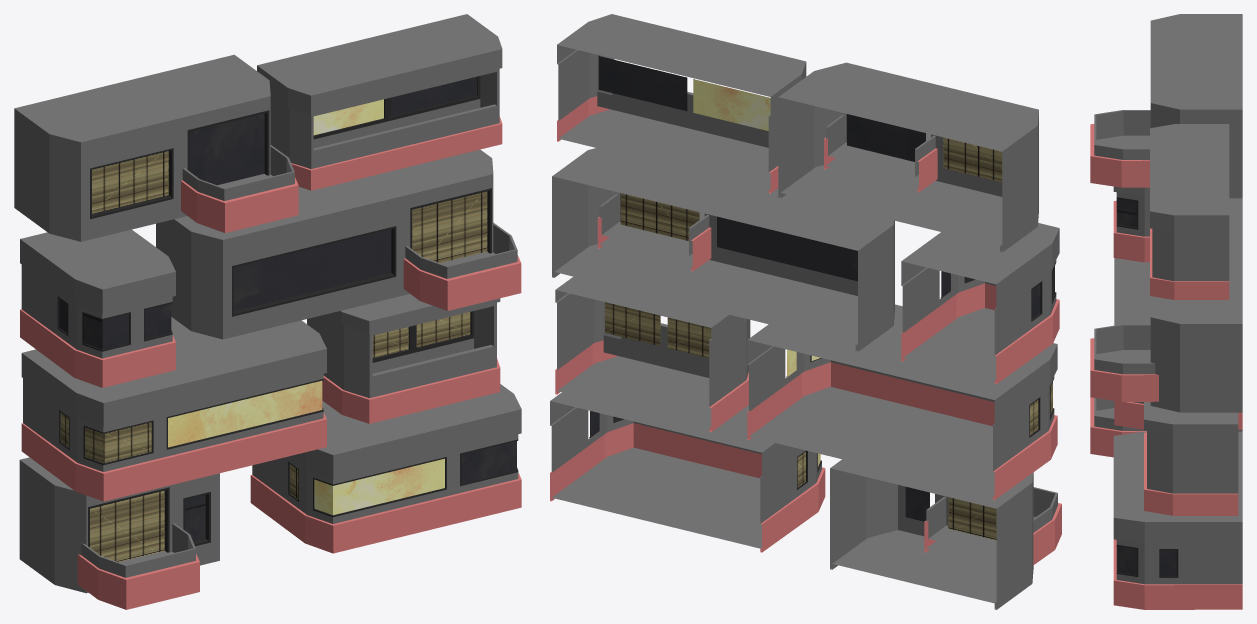
File: Bloc_Mini_02.fbx
3 views of the same model, side by side, from view 1: azimuth 30°, elevation 25°; view 2: azimuth 150°, elevation 25°; view 3: azimuth 270°, elevation 25° (orthographic). The views are drawn at different scales.
Parts seen in each view (by area): view 1: Bloc_Mini_02; view 2: Bloc_Mini_02; view 3: Bloc_Mini_02.
Part boxes in pixels (<box>): Bloc_Mini_02: <box>14,14,521,609</box>; Bloc_Mini_02: <box>550,14,1061,609</box>; Bloc_Mini_02: <box>1090,14,1242,609</box>.
Bounding box in the file's own units: 331 × 966 × 996.
